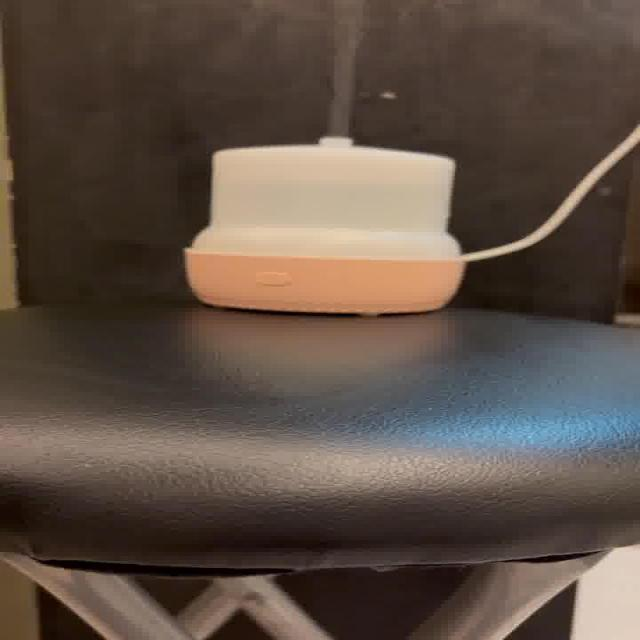fire: (322, 0, 362, 138)
